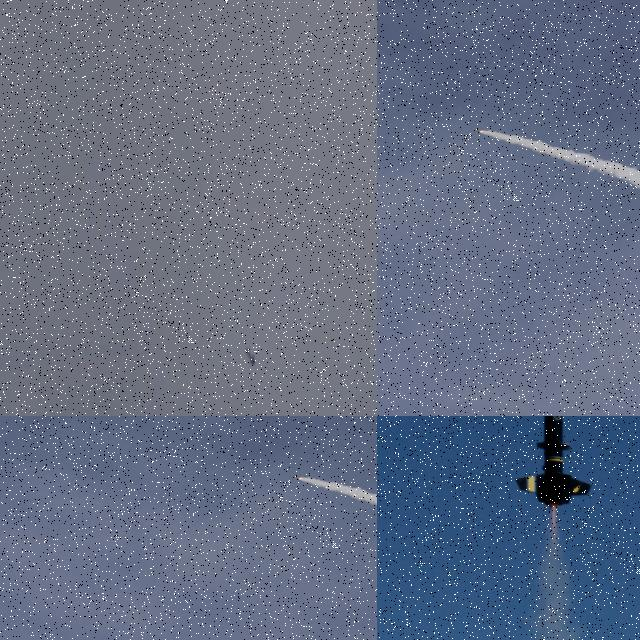Rocket: (512, 416, 593, 510), (246, 347, 256, 365), (477, 130, 482, 133), (296, 477, 301, 480)
